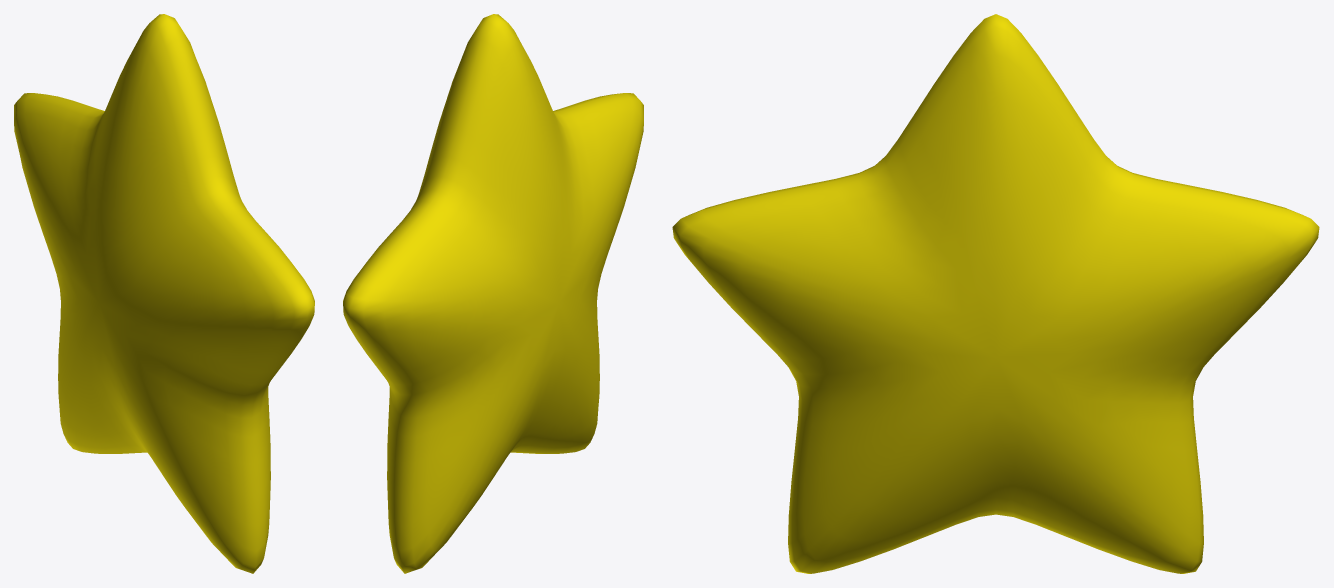
The model's file is star.glb.
3 renders of one model, left to right at view 1: azimuth 30°, elevation 25°; view 2: azimuth 150°, elevation 25°; view 3: azimuth 270°, elevation 25°, orthographic. The views are drawn at different scales.
Parts seen in each view (by area): view 1: Cone; view 2: Cone; view 3: Cone.
Part boxes in pixels (x1=…): Cone: x1=14, y1=14, x2=314, y2=573; Cone: x1=343, y1=14, x2=643, y2=573; Cone: x1=672, y1=14, x2=1319, y2=573.
Bounding box in the file's own units: 0.2618 × 0.9511 × 0.996.
